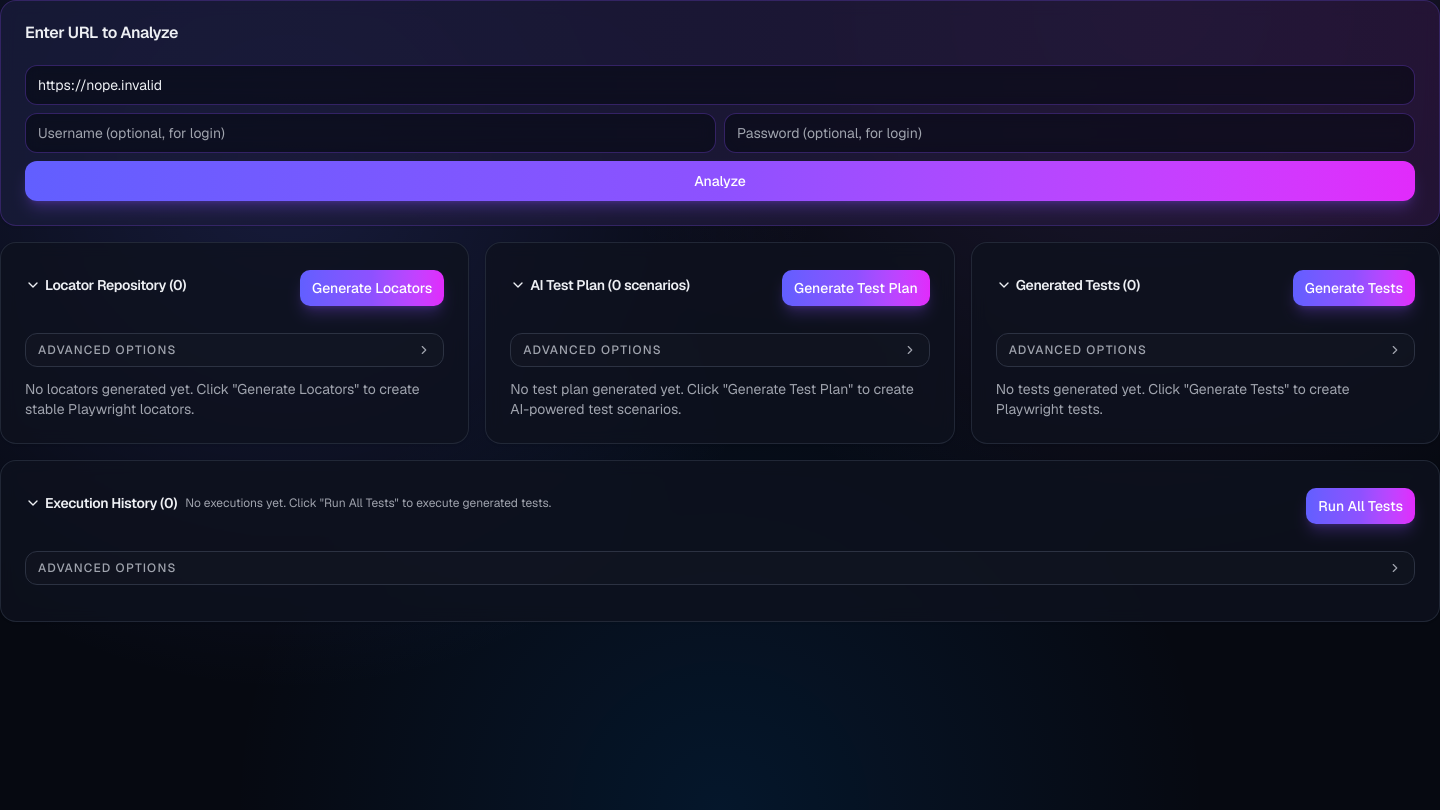
Test case: QaWorkflow › reports an analysis failure instead of silently showing an empty page
Step 1. Click the button "Analyze" → (720, 181), box [25,161,1415,201]
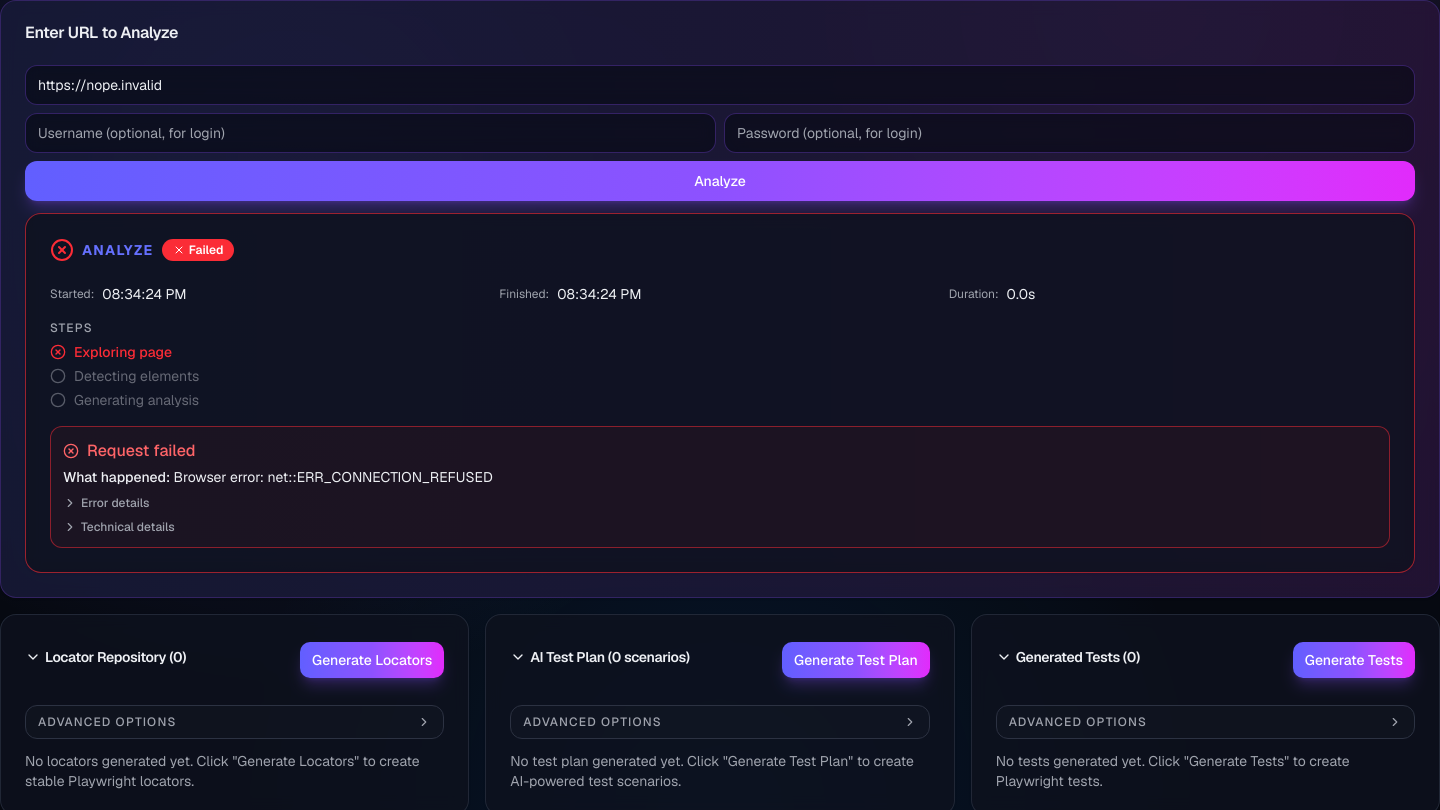
Expected: the text "What happened: Browser error: net::ERR_CONNECTION_REFUSED" is shown, [63,468,493,486]
